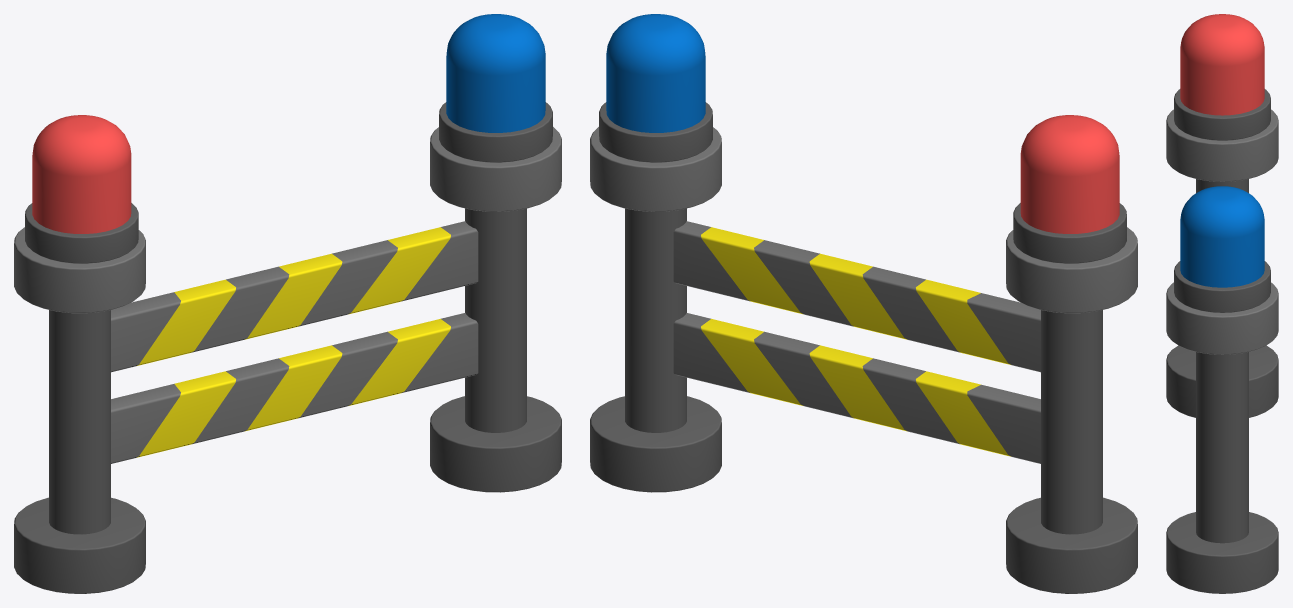
Rendered from Public_16_Police_Line_1.glb.
3 views of the same model, side by side, from view 1: azimuth 30°, elevation 25°; view 2: azimuth 150°, elevation 25°; view 3: azimuth 270°, elevation 25° (orthographic). The views are drawn at different scales.
Parts seen in each view (by area): view 1: Public_16_Police_Line_1; view 2: Public_16_Police_Line_1; view 3: Public_16_Police_Line_1.
Boxes of the visible parts, x1,y1,x2,y2 form: Public_16_Police_Line_1: [14, 14, 561, 593]; Public_16_Police_Line_1: [590, 14, 1137, 593]; Public_16_Police_Line_1: [1166, 14, 1278, 593].
Size of the model in its own units: 1.94 by 1.54 by 0.4179.
Materials: 1 (1 with a texture image).
